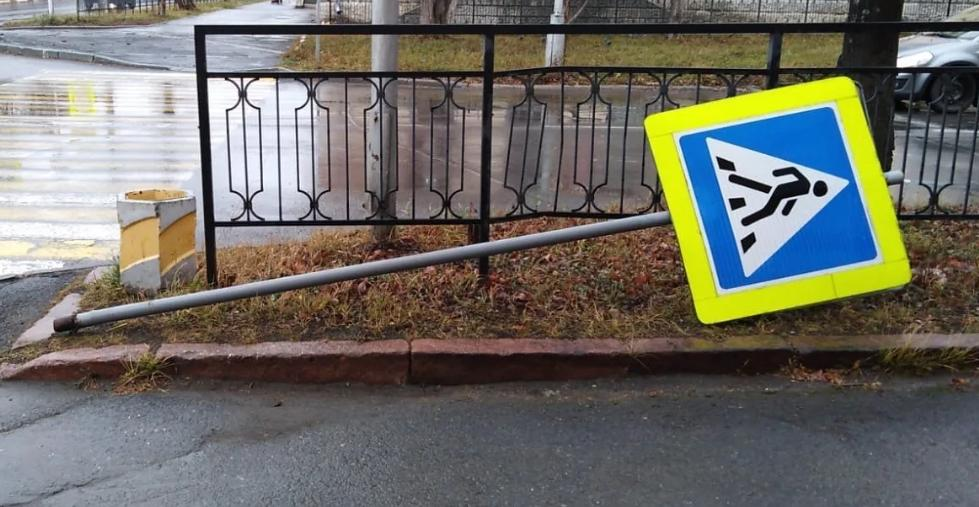road_sign: (643, 77, 912, 324)
